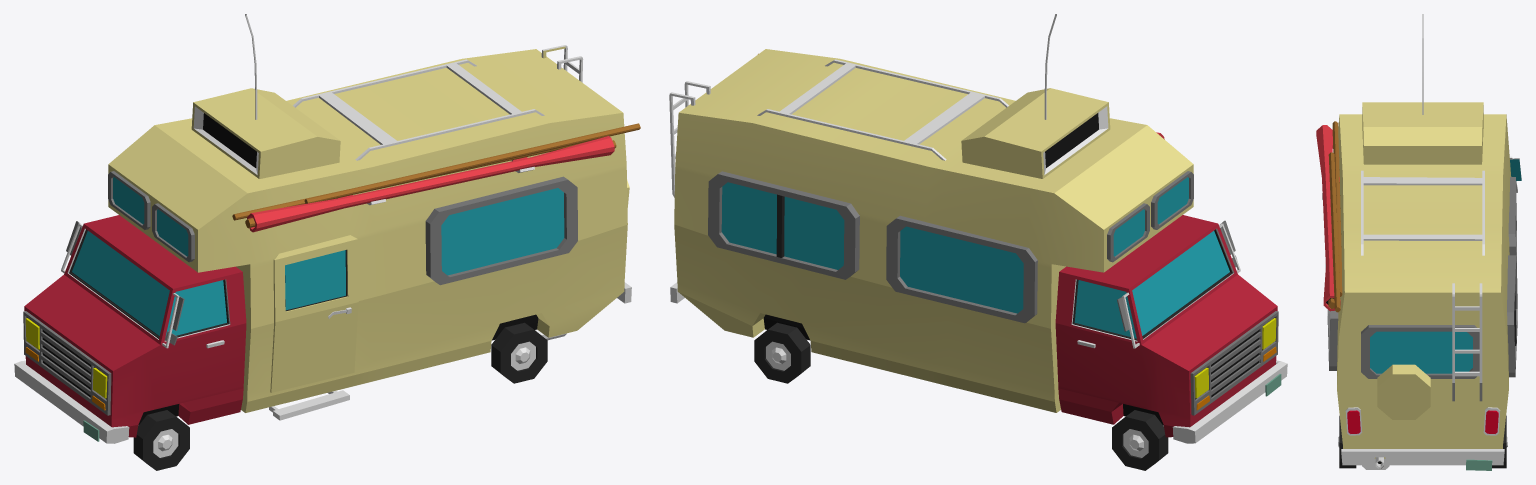
3 views of the same model, side by side, from view 1: azimuth 30°, elevation 25°; view 2: azimuth 150°, elevation 25°; view 3: azimuth 270°, elevation 25° (orthographic). The views are drawn at different scales.
Visible parts, largest first — view 1: caravan, Cabin_Door, L-C-Windo, Fornt-Face, R-tire, F-tire, Front-Bumper, F-L-C-Windo, F-R-C-Windo; view 2: caravan, R-R-C-windo, F-R-C-Windo.001, Fornt-Face, R-tire.001, F-tire.001, Front-Bumper, F-L-C-Windo, F-R-C-Windo; view 3: caravan, F-L-C-Windo.001, R-tire.002, Back-Bumper, R-R-C-windo, back-Liight, F-R-C-Windo.001, L-C-Windo, Plate_R, Cube.002, Cube.003.
Part boxes in pixels (x1=…): caravan: x1=24, y1=14, x2=640, y2=437; Cabin_Door: x1=270, y1=235, x2=358, y2=392; L-C-Windo: x1=425, y1=176, x2=577, y2=285; Fornt-Face: x1=23, y1=311, x2=111, y2=415; R-tire: x1=491, y1=322, x2=547, y2=383; F-tire: x1=133, y1=410, x2=189, y2=470; Front-Bumper: x1=14, y1=360, x2=129, y2=443; F-L-C-Windo: x1=152, y1=203, x2=194, y2=262; F-R-C-Windo: x1=108, y1=171, x2=150, y2=229; caravan: x1=669, y1=14, x2=1277, y2=437; R-R-C-windo: x1=708, y1=171, x2=859, y2=279; F-R-C-Windo.001: x1=886, y1=215, x2=1037, y2=323; Fornt-Face: x1=1190, y1=311, x2=1278, y2=415; R-tire.001: x1=754, y1=322, x2=810, y2=383; F-tire.001: x1=1112, y1=410, x2=1168, y2=470; Front-Bumper: x1=1172, y1=360, x2=1287, y2=443; F-L-C-Windo: x1=1151, y1=171, x2=1193, y2=229; F-R-C-Windo: x1=1107, y1=203, x2=1149, y2=262; caravan: x1=1316, y1=14, x2=1511, y2=458; F-L-C-Windo.001: x1=1361, y1=325, x2=1479, y2=378; R-tire.002: x1=1377, y1=364, x2=1430, y2=419; Back-Bumper: x1=1341, y1=449, x2=1504, y2=465; R-R-C-windo: x1=1507, y1=255, x2=1517, y2=377; back-Liight: x1=1345, y1=407, x2=1500, y2=435; F-R-C-Windo.001: x1=1508, y1=177, x2=1516, y2=262; L-C-Windo: x1=1327, y1=309, x2=1338, y2=370; Plate_R: x1=1466, y1=459, x2=1492, y2=470; Cube.002: x1=1509, y1=156, x2=1521, y2=192; Cube.003: x1=1362, y1=457, x2=1389, y2=469.
Bounding box in the file's own units: 15.56 × 10.59 × 5.65.
